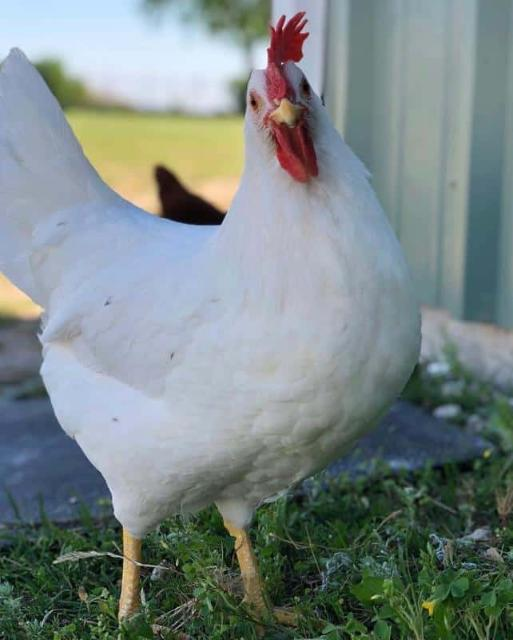Chicken: (0, 10, 425, 624)
